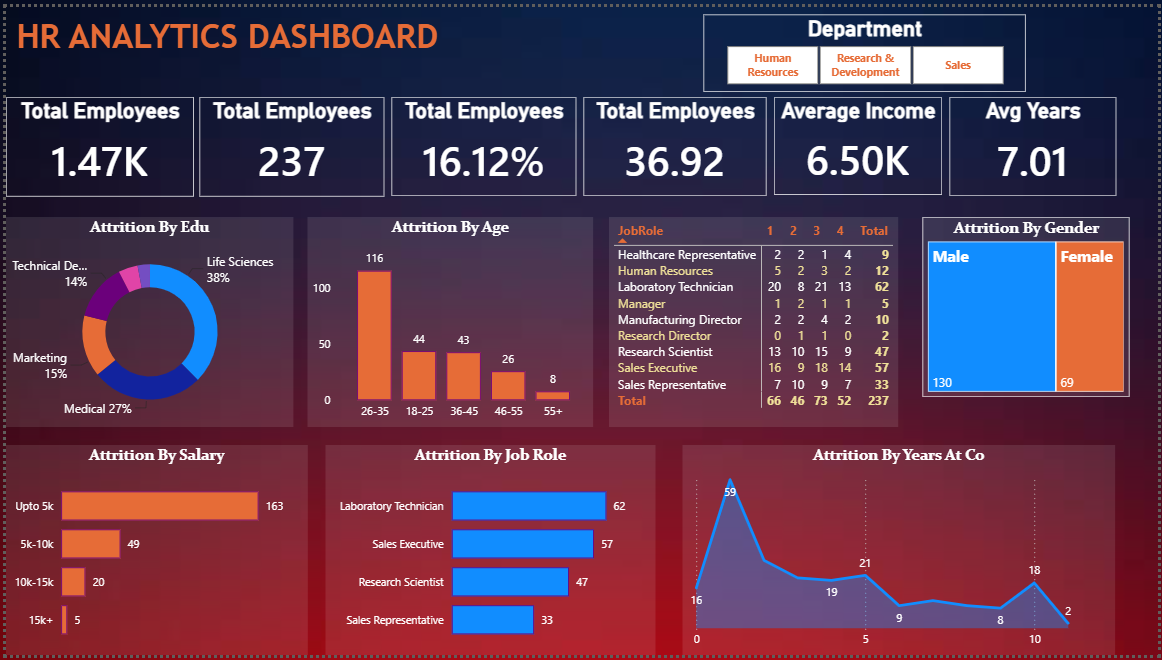

Layout of this report page (visuals, bound fields, positions):
{"tool":"powerbi","page":{"name":"Page 1","canvas":[1280,720],"ordinal":0},"visuals":[{"type":"cardVisual","title":"Total Employees","fields":{"Data":["CountNonNull(HR analytics.EmpID)"]},"box":[0,100,208.8,110.5],"z":0},{"type":"cardVisual","title":"Total Employees","fields":{"Data":["Sum(HR analytics.AttritionCount)"]},"box":[215.8,100,205.3,110.5],"z":1000},{"type":"cardVisual","title":"Total Employees","fields":{"Data":["HR analytics.Attrition_rate"]},"box":[431.6,100,205.3,110.5],"z":2000},{"type":"cardVisual","title":"Total Employees","fields":{"Data":["Avg(HR analytics.Age)"]},"box":[649.1,100,201.8,110.5],"z":3000},{"type":"cardVisual","title":"Average Income","fields":{"Data":["Avg(HR analytics.MonthlyIncome)"]},"box":[864.9,100,186,108.8],"z":4000},{"type":"cardVisual","title":"Avg Years","fields":{"Data":["Avg(HR analytics.YearsAtCompany)"]},"box":[1063.2,100,186,110.5],"z":5000},{"type":"donutChart","title":"Attrition By Edu","fields":{"Category":["HR analytics.EducationField"],"Y":["Sum(HR analytics.AttritionCount)"]},"box":[0,233.3,319.3,233.3],"z":6000},{"type":"clusteredColumnChart","title":"Attrition By Age","fields":{"Category":["HR analytics.AgeGroup"],"Y":["Sum(HR analytics.AttritionCount)"]},"box":[335.1,233.3,317.5,233.3],"z":7000},{"type":"pivotTable","fields":{"Rows":["HR analytics.JobRole"],"Columns":["HR analytics.JobSatisfaction"],"Values":["Sum(HR analytics.AttritionCount)"]},"box":[670.2,233.3,321.1,233.3],"z":8000},{"type":"clusteredBarChart","title":"Attrition By Salary","fields":{"Category":["HR analytics.SalarySlab"],"Y":["Sum(HR analytics.AttritionCount)"]},"box":[0,486,335.1,233.3],"z":9000},{"type":"clusteredBarChart","title":"Attrition By Job Role","fields":{"Category":["HR analytics.JobRole"],"Y":["Sum(HR analytics.AttritionCount)"]},"box":[354.4,486,366.7,233.3],"z":10000},{"type":"areaChart","title":"Attrition By Years At Co","fields":{"Category":["HR analytics.YearsAtCompany"],"Y":["Sum(HR analytics.AttritionCount)"]},"box":[750.9,486,480.7,233.3],"z":11000},{"type":"treemap","title":"Attrition By Gender","fields":{"Group":["HR analytics.Gender"],"Values":["Sum(HR analytics.AttritionCount)"]},"box":[1017.5,233.3,229.8,200],"z":12000},{"type":"slicer","title":"Department","fields":{"Values":["HR analytics.Department"]},"box":[775.4,8.8,357.9,86],"z":13000},{"type":"textbox","box":[7,5.3,496.5,56.1],"z":14000}]}

Visuals, with their boxes in screenshot pixels (x1, y1, x2, y2), scaled from the page's 1280x720 canvas onto the 1162x660 screenshot:
"Total Employees" cardVisual: x1=0, y1=92, x2=190, y2=193
"Total Employees" cardVisual: x1=196, y1=92, x2=382, y2=193
"Total Employees" cardVisual: x1=392, y1=92, x2=578, y2=193
"Total Employees" cardVisual: x1=589, y1=92, x2=772, y2=193
"Average Income" cardVisual: x1=785, y1=92, x2=954, y2=191
"Avg Years" cardVisual: x1=965, y1=92, x2=1134, y2=193
"Attrition By Edu" donutChart: x1=0, y1=214, x2=290, y2=428
"Attrition By Age" clusteredColumnChart: x1=304, y1=214, x2=592, y2=428
pivotTable - HR analytics.JobRole x HR analytics.JobSatisfaction: x1=608, y1=214, x2=900, y2=428
"Attrition By Salary" clusteredBarChart: x1=0, y1=446, x2=304, y2=659
"Attrition By Job Role" clusteredBarChart: x1=322, y1=446, x2=655, y2=659
"Attrition By Years At Co" areaChart: x1=682, y1=446, x2=1118, y2=659
"Attrition By Gender" treemap: x1=924, y1=214, x2=1132, y2=397
"Department" slicer: x1=704, y1=8, x2=1029, y2=87
textbox: x1=6, y1=5, x2=457, y2=56
